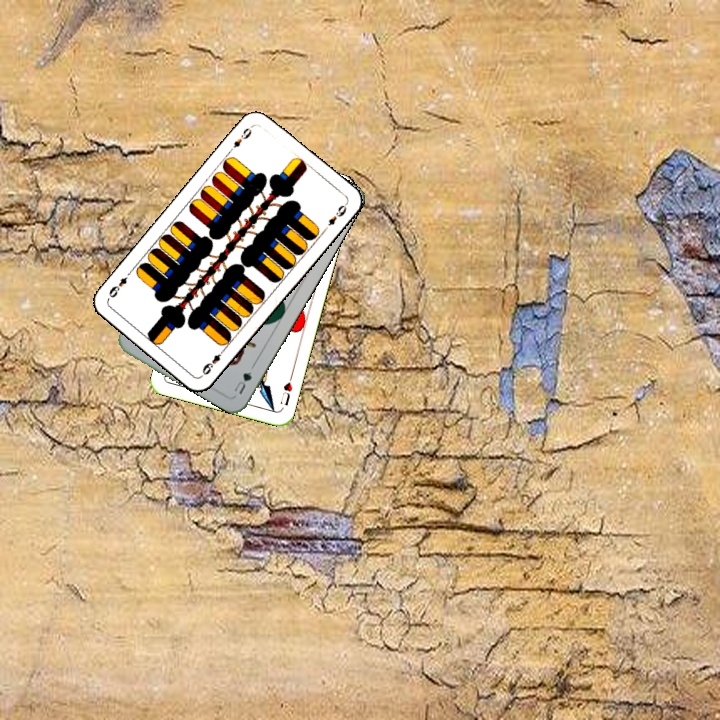E9: (198, 344, 228, 379), (225, 122, 255, 156)
GU: (230, 367, 255, 397)
HU: (276, 371, 295, 408)
